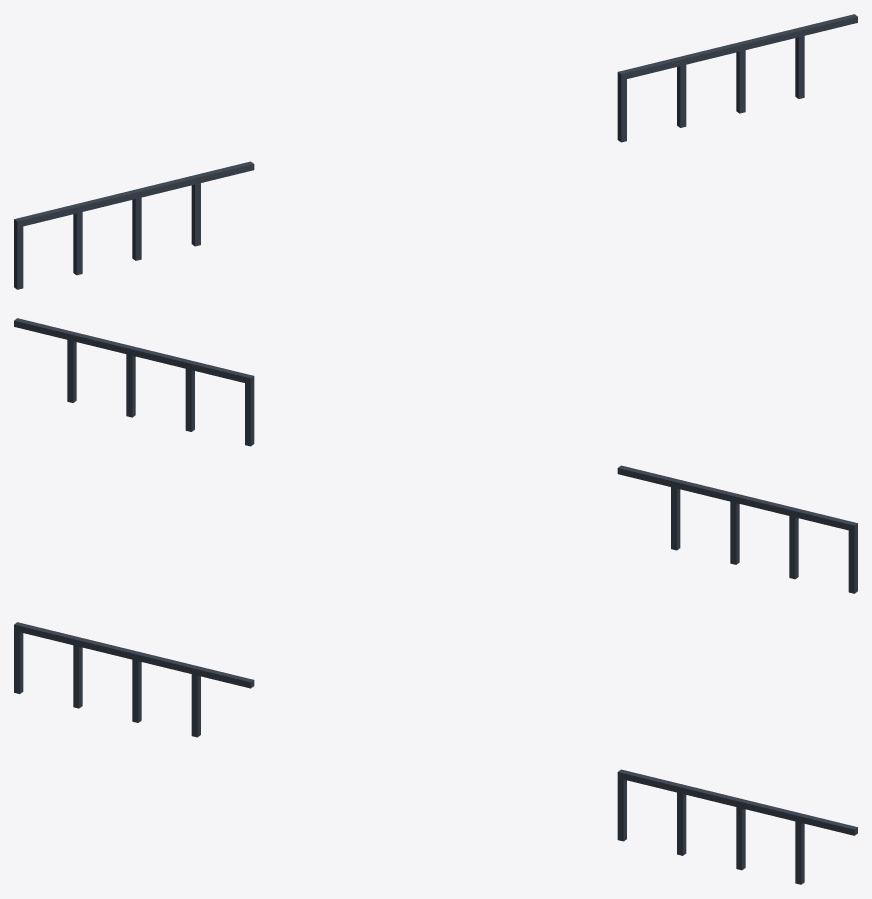
Rendered from antenna_e2_l3.glb.
3 views of the same model, one above another, from view 1: azimuth 30°, elevation 25°; view 2: azimuth 150°, elevation 25°; view 3: azimuth 330°, elevation 25° (orthographic).
Visible parts, largest first — view 1: Base; view 2: Base; view 3: Base.
Part boxes in pixels (x1,y1,x2,y2): Base: (14, 14, 857, 289); Base: (14, 318, 857, 593); Base: (14, 622, 857, 884).
Size of the model in its own units: 14.2 by 1.1 by 0.1.
